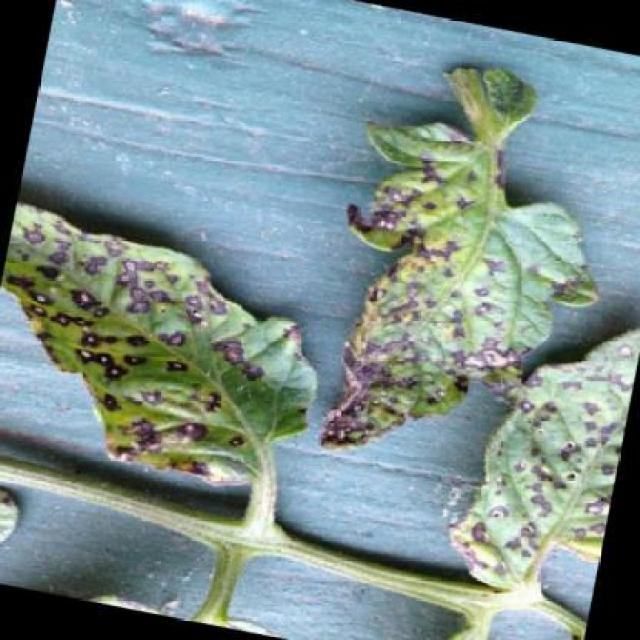Septoria leaf spot: (295, 29, 626, 512), (1, 196, 333, 500)
